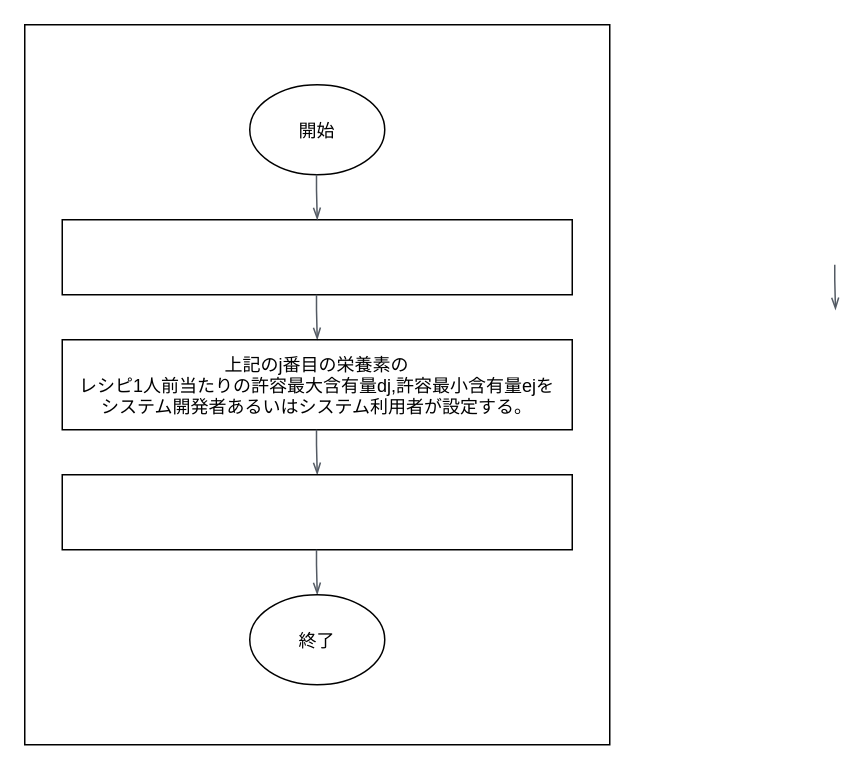
Image size: 864x770. Some labels were removed from this diagram. Each missing label, with the centre of its shape:
"レシピ提案で利用する特定栄養素を決定する。 (利用する栄養素をj番目の栄養素とする。) [栄養素1,栄養素2,...,栄養素j,...栄養素n]" goes at point (316, 256).
"代替食材の全ての組み合わせから 許容最大含有量dj,許容最小含有量ejの条件を満たす 代替食材の組み合わせを抽出する。" goes at point (316, 511).
